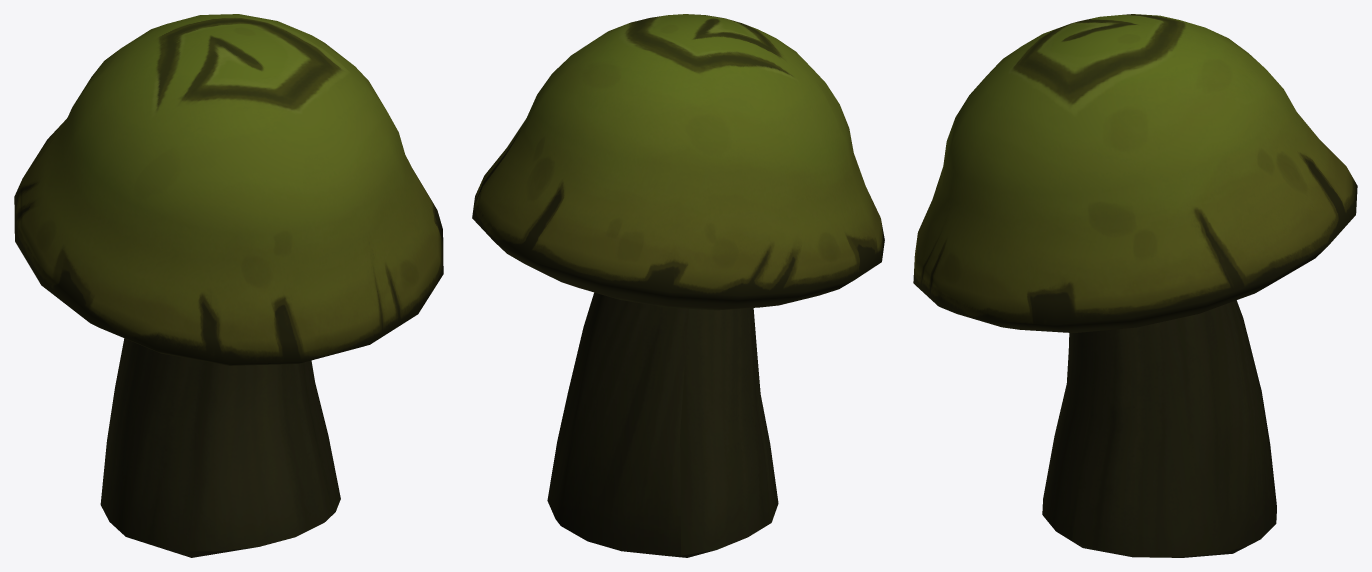
File: big_mushroom_green 1.fbx
The picture shows the model from 3 angles, left to right: view 1: azimuth 30°, elevation 25°; view 2: azimuth 150°, elevation 25°; view 3: azimuth 270°, elevation 25°; orthographic projection. The views are drawn at different scales.
Visible parts, largest first — view 1: big_mushroom_green; view 2: big_mushroom_green; view 3: big_mushroom_green.
Part boxes in pixels (box(x1,y1,x2,y2)): big_mushroom_green: box(14, 14, 443, 557); big_mushroom_green: box(472, 14, 884, 557); big_mushroom_green: box(913, 14, 1357, 557).
Size of the model in its own units: 2.21 by 2.88 by 2.3.
